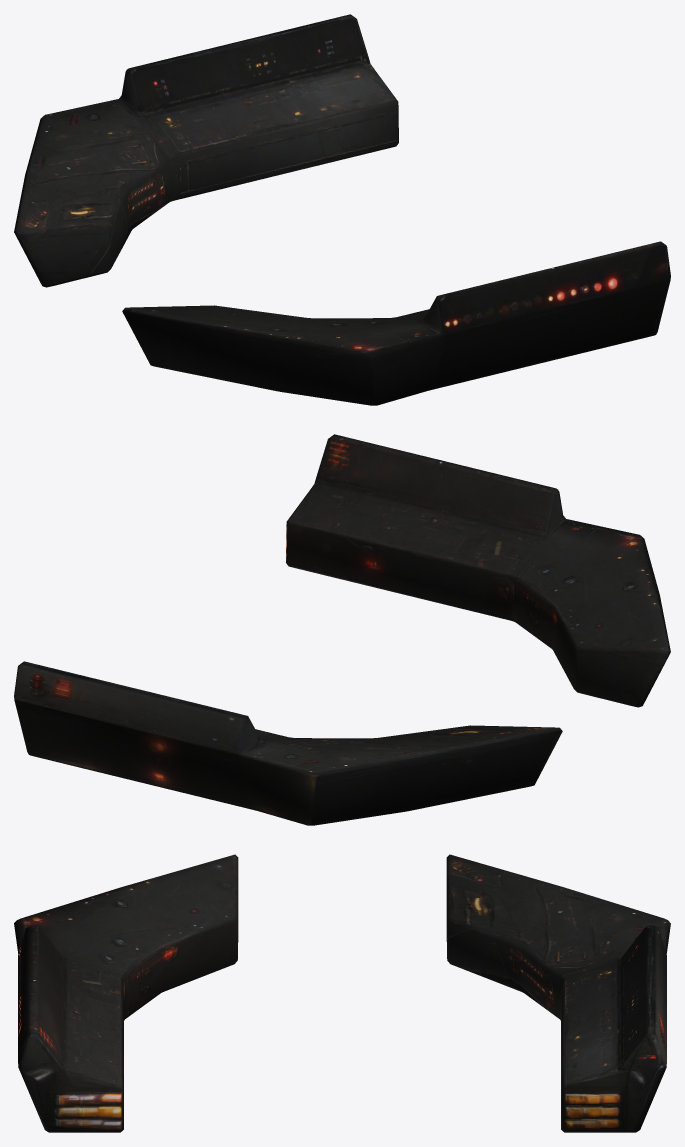
Rendered from _0609201749_texture.fbx.
3 renders of one model, top to bottom at view 1: azimuth 30°, elevation 25°; view 2: azimuth 150°, elevation 25°; view 3: azimuth 270°, elevation 25°, orthographic.
Visible parts, largest first — view 1: Mesh_0; view 2: Mesh_0; view 3: Mesh_0.
Part boxes in pixels (left/top/right/bottom): Mesh_0: left=14, top=14, right=670, bottom=405; Mesh_0: left=14, top=434, right=670, bottom=825; Mesh_0: left=14, top=854, right=670, bottom=1132.
Size of the model in its own units: 155 by 33.2 by 200.
1 material, 1 textured.
